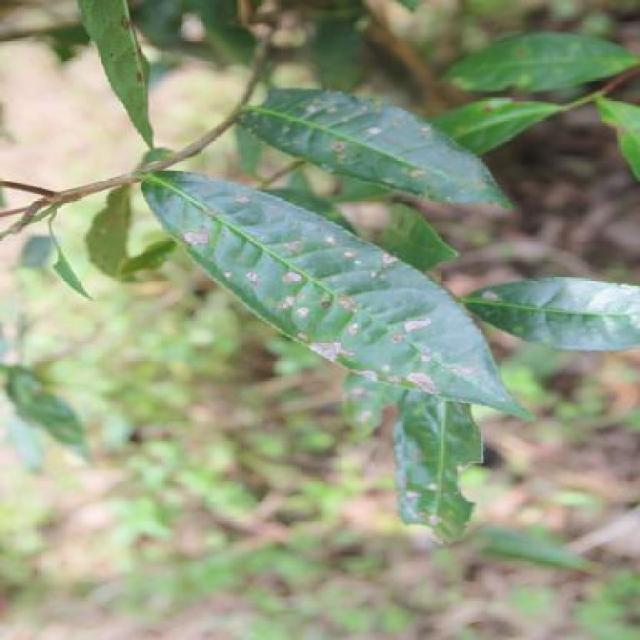Leaf rust of tea: (144, 177, 514, 438)
